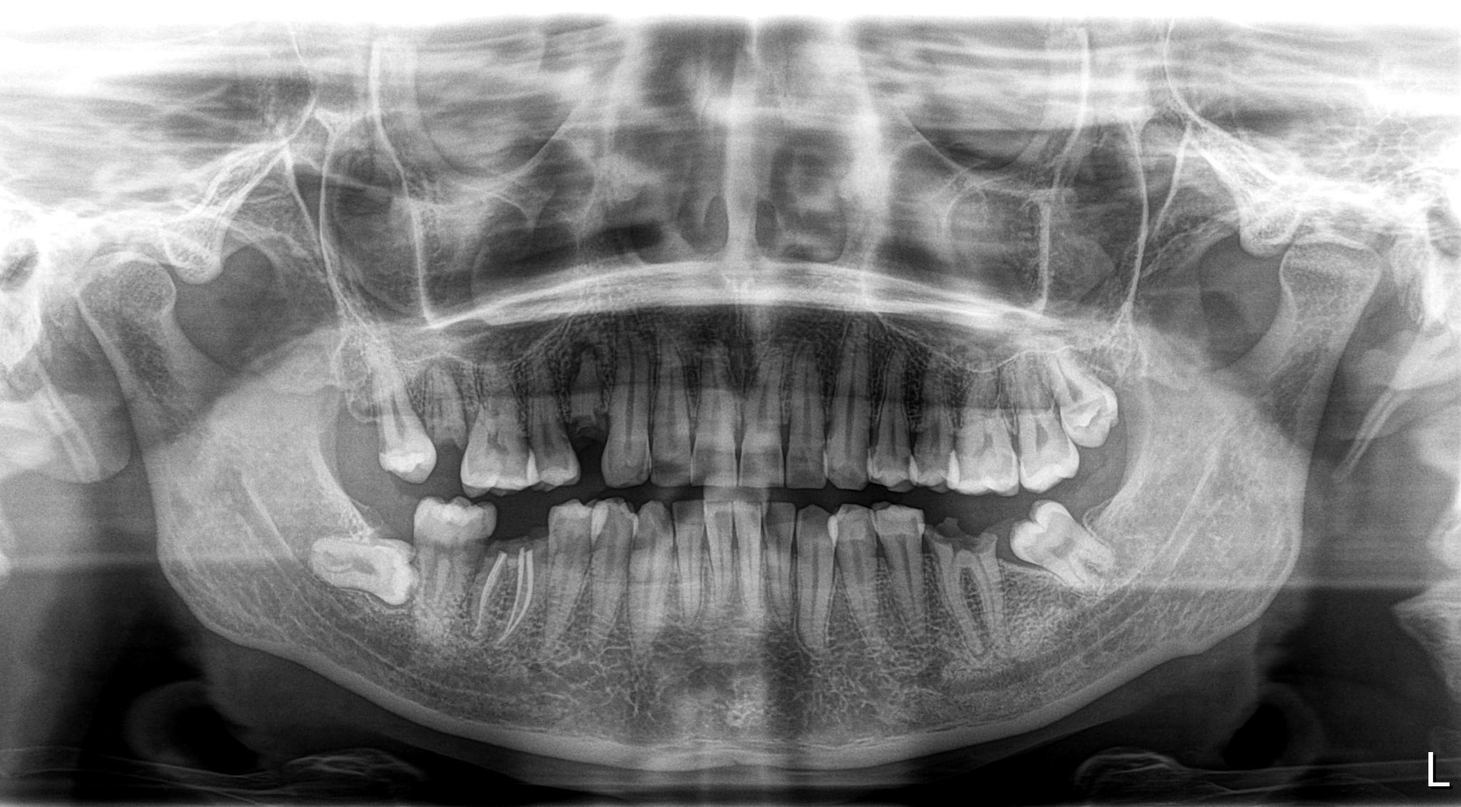Dental Caries: (945, 557, 994, 650), (485, 425, 509, 459)
Endodontically Treated Tooth: (469, 548, 540, 660)
Impacted Third Molar: (1001, 512, 1124, 584), (1047, 362, 1136, 447), (310, 532, 410, 600)
Missing Tooth: (330, 389, 377, 481)
Retained Root: (560, 350, 607, 453), (426, 366, 467, 451)
